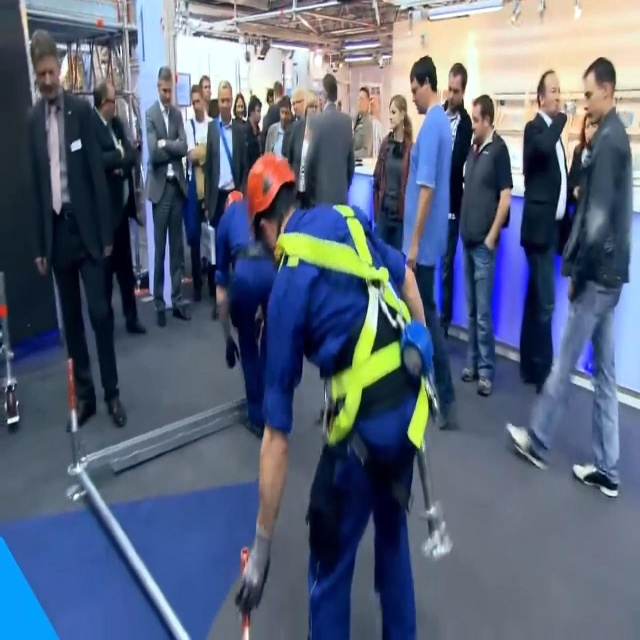Arnes_seguridad: (277, 168, 436, 506)
